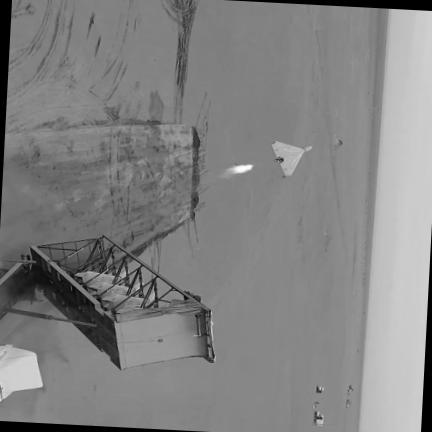Shahed: (271, 141, 311, 177)
